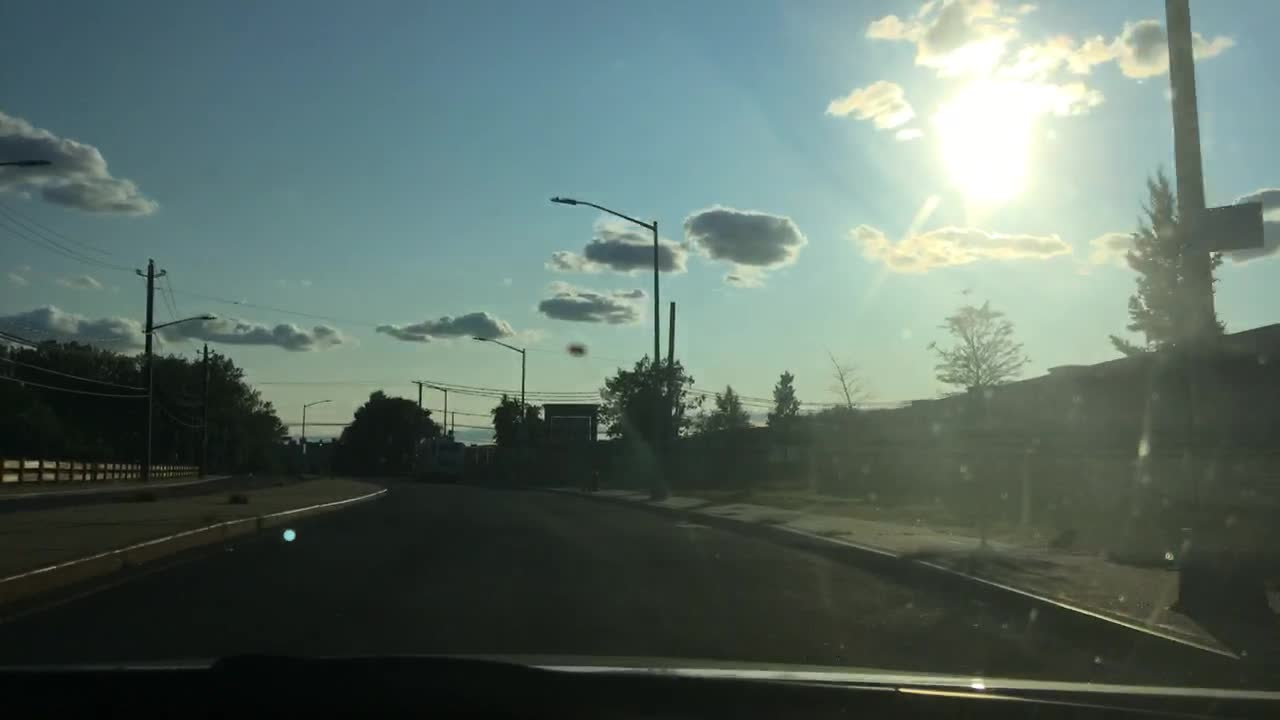person: (580, 468, 597, 493)
traffic light: (317, 438, 324, 450)
traffic sign: (1207, 200, 1263, 248)
truck: (411, 438, 464, 483)
